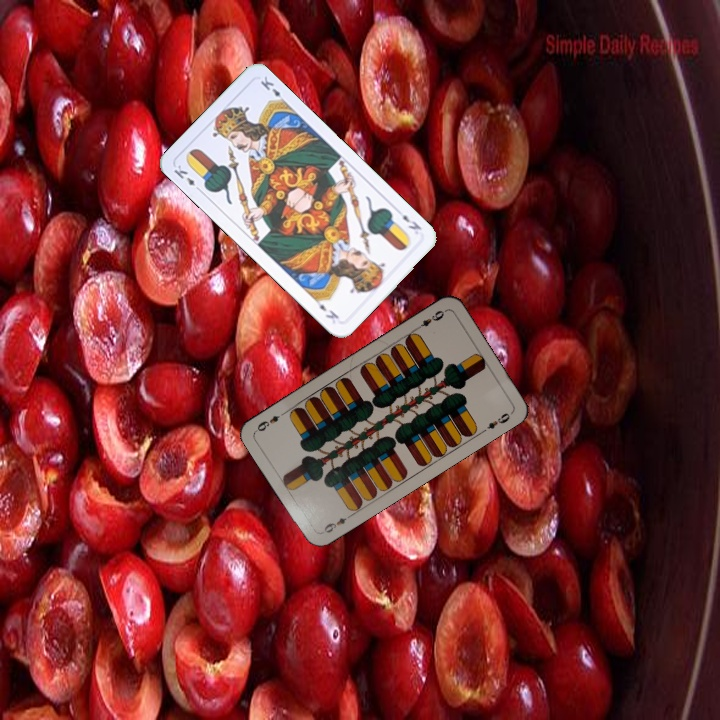E9: (412, 306, 448, 333), (320, 513, 348, 536)
EK: (170, 161, 204, 195), (398, 210, 424, 233)
